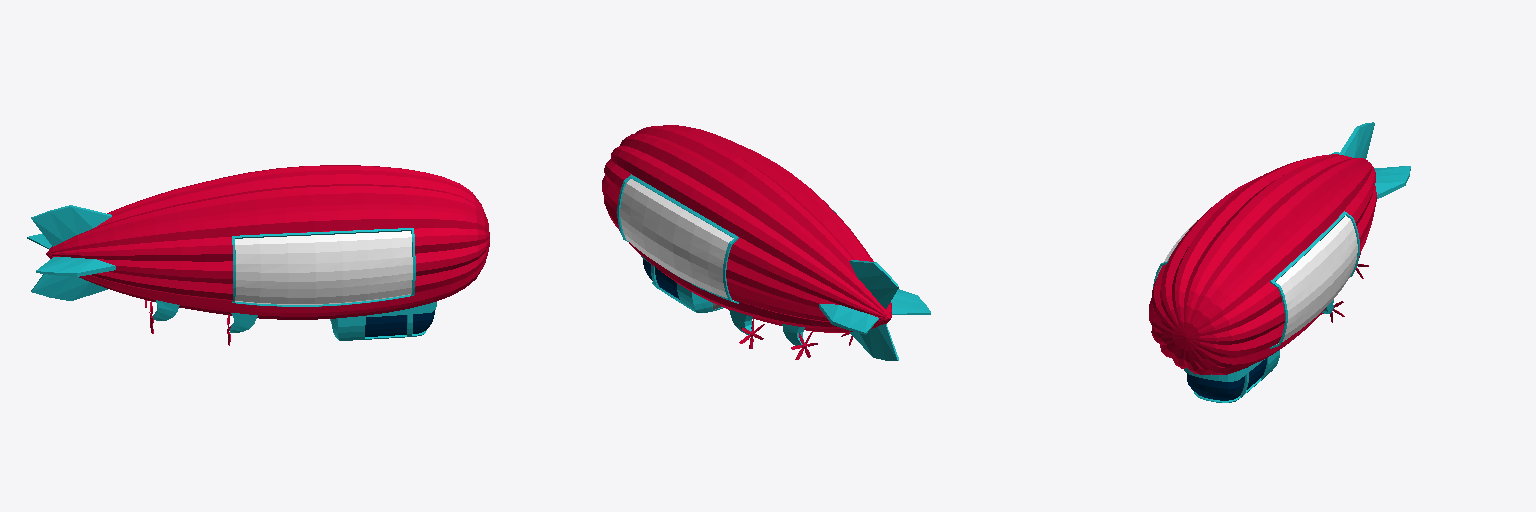
File: dirigibile.obj
3 renders of one model, left to right at view 1: azimuth 30°, elevation 25°; view 2: azimuth 150°, elevation 25°; view 3: azimuth 270°, elevation 25°, orthographic.
Visible parts, largest first — view 1: baloon, cube2, wings, cabin.1, cube1, sper; view 2: baloon, cube2, wings, cabin.1, cube, sper; view 3: baloon, cube2, cabin.1, wings, cube.
Boxes of the visible parts, x1=… form: baloon: x1=46, y1=165, x2=489, y2=319; cube2: x1=235, y1=231, x2=412, y2=304; wings: x1=27, y1=205, x2=115, y2=300; cabin.1: x1=330, y1=302, x2=436, y2=340; cube1: x1=232, y1=228, x2=415, y2=306; sper: x1=153, y1=300, x2=257, y2=332; baloon: x1=602, y1=125, x2=891, y2=332; cube2: x1=620, y1=179, x2=733, y2=300; wings: x1=819, y1=260, x2=930, y2=360; cabin.1: x1=641, y1=256, x2=723, y2=312; cube: x1=617, y1=174, x2=738, y2=303; sper: x1=729, y1=310, x2=804, y2=345; baloon: x1=1149, y1=154, x2=1376, y2=374; cube2: x1=1157, y1=215, x2=1357, y2=344; cabin.1: x1=1184, y1=350, x2=1279, y2=402; wings: x1=1329, y1=122, x2=1410, y2=198; cube: x1=1270, y1=211, x2=1359, y2=348.
Size of the model in its own units: 724 by 287 by 428.